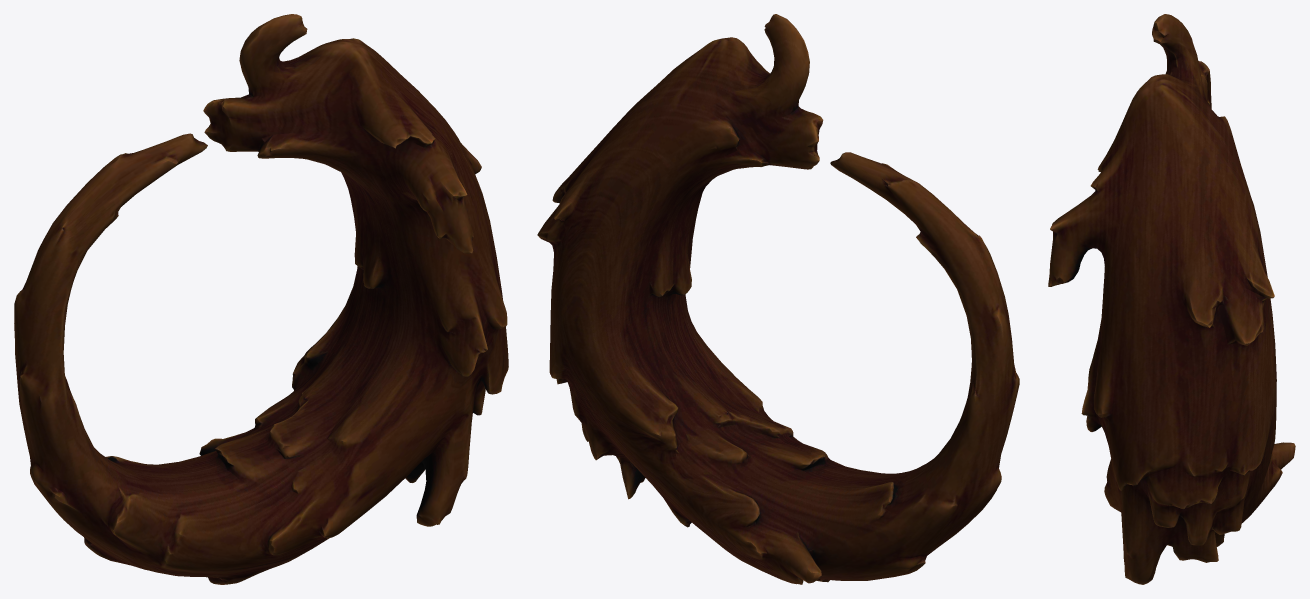
Rendered from Yamashi 1.fbx.
3 renders of one model, left to right at view 1: azimuth 30°, elevation 25°; view 2: azimuth 150°, elevation 25°; view 3: azimuth 270°, elevation 25°, orthographic. The views are drawn at different scales.
Visible parts, largest first — view 1: Yamashi 1; view 2: Yamashi 1; view 3: Yamashi 1.
Part boxes in pixels (x1,y1,x2,y2): Yamashi 1: [14, 14, 508, 584]; Yamashi 1: [537, 14, 1019, 584]; Yamashi 1: [1048, 14, 1295, 584].
Size of the model in its own units: 3.5 by 1.68 by 3.98.
1 material, 1 textured.
